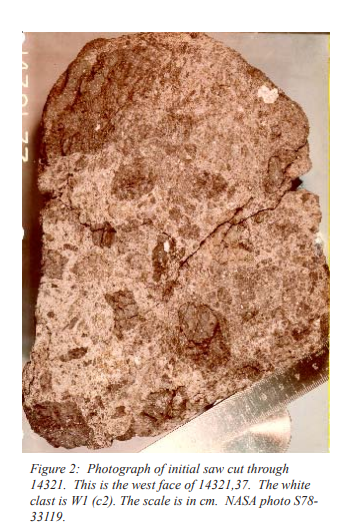Breccia: (39, 31, 321, 441), (56, 96, 216, 423), (144, 109, 210, 387)
